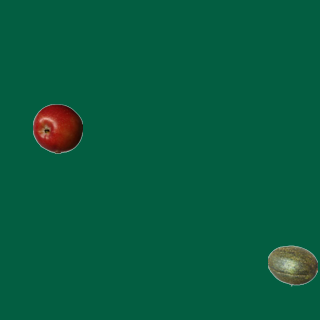Apple Braeburn: (32, 103, 82, 153)
Melon Piel de Sapo: (267, 240, 317, 290)
